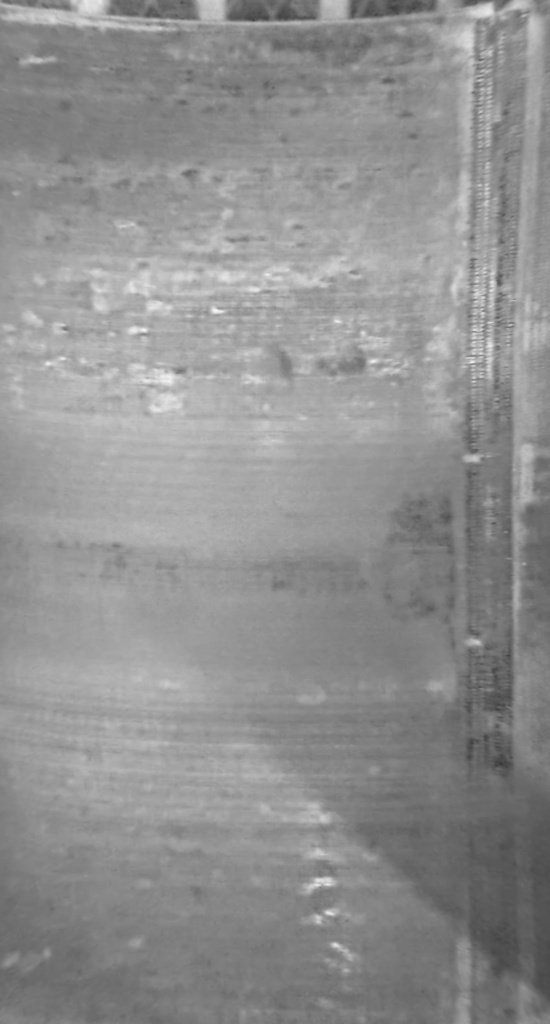splice: (453, 1, 550, 1023)
